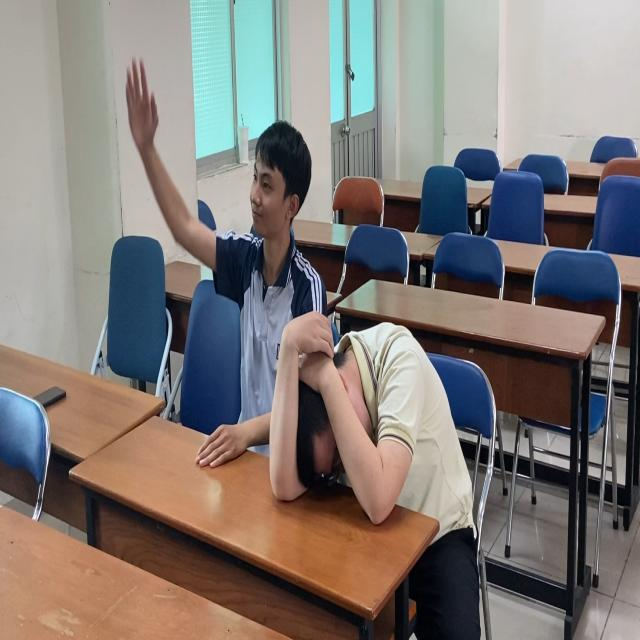raise_hand: (114, 50, 325, 449)
sleep: (274, 286, 475, 541)
